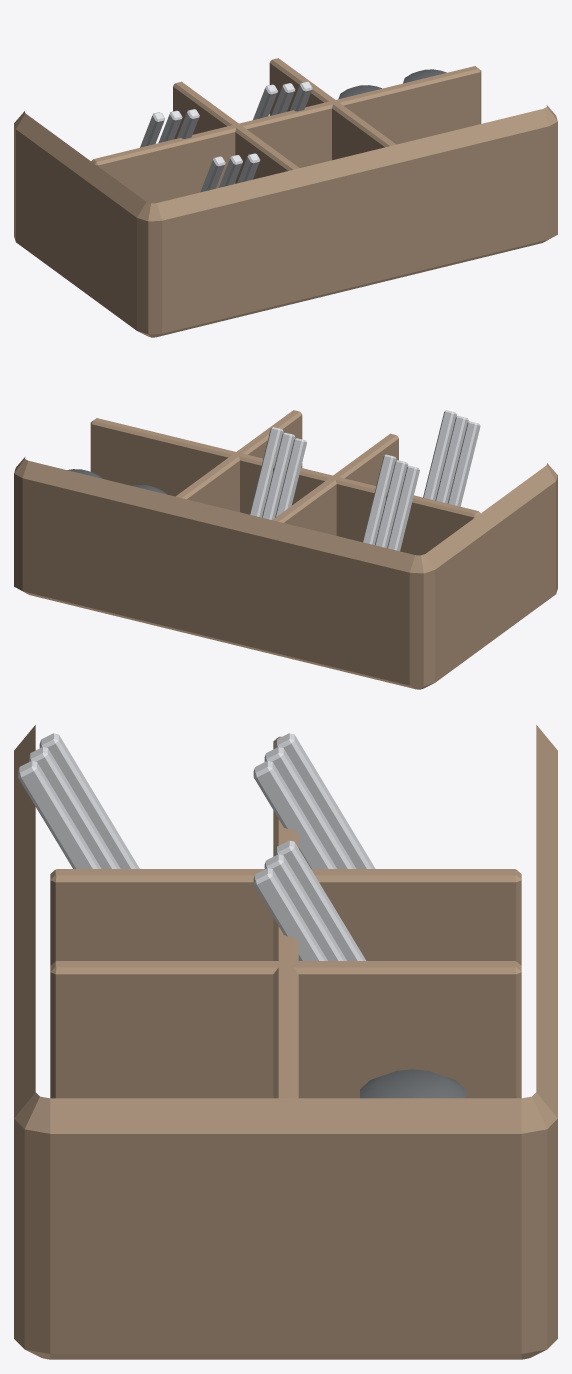
File: hotel-and-resort-operations-condiment-and-cutlery-stat-688ec94f__25915.glb
3 renders of one model, top to bottom at view 1: azimuth 30°, elevation 25°; view 2: azimuth 150°, elevation 25°; view 3: azimuth 270°, elevation 25°, orthographic. The views are drawn at different scales.
Visible parts, largest first — view 1: condiment-and-cutlery-station; view 2: condiment-and-cutlery-station; view 3: condiment-and-cutlery-station.
Boxes of the visible parts, left/top/right/bottom form: condiment-and-cutlery-station: left=14, top=58, right=557, bottom=337; condiment-and-cutlery-station: left=14, top=410, right=557, bottom=689; condiment-and-cutlery-station: left=14, top=725, right=557, bottom=1359.
Size of the model in its own units: 0.52 by 0.1911 by 0.3.
